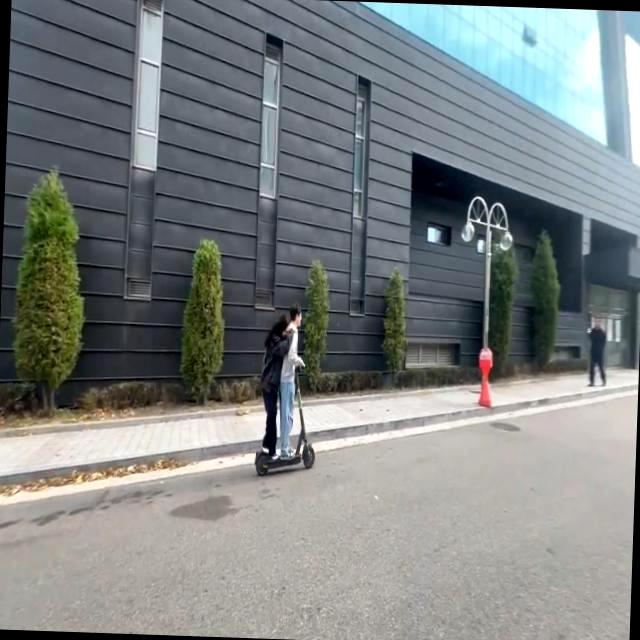bare_head: (268, 314, 289, 340), (287, 300, 304, 328)
human: (273, 301, 308, 456), (254, 312, 290, 460)
kickboard: (250, 443, 319, 478)
